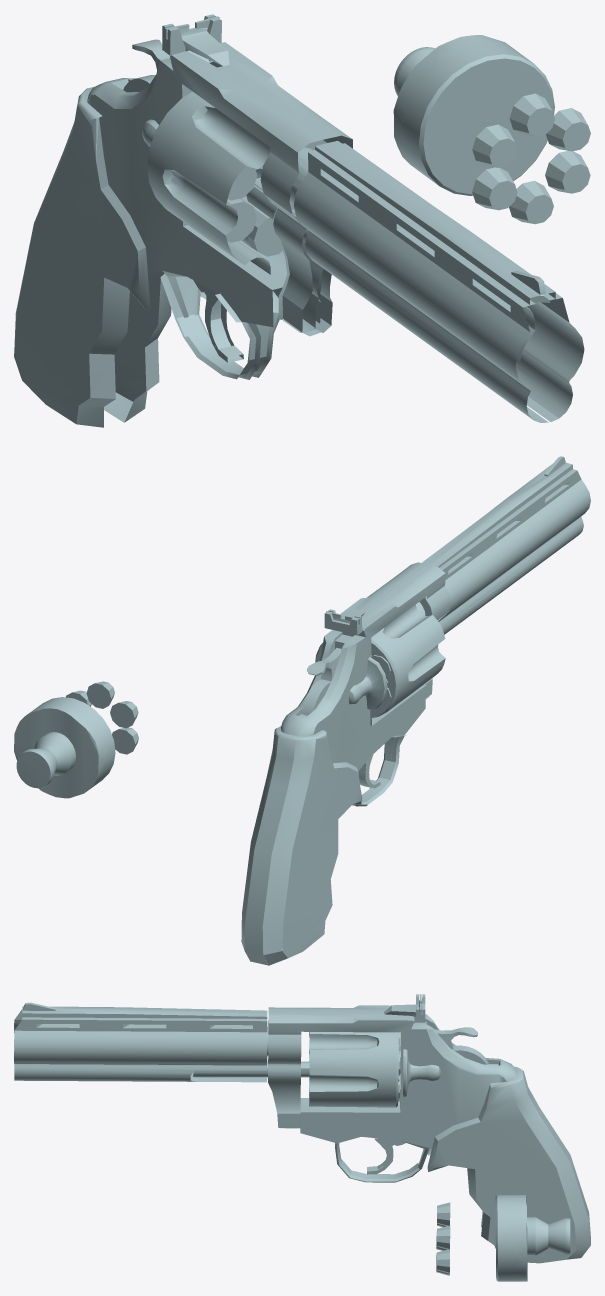
The model's file is v_dual357_fullref.fbx.
The picture shows the model from 3 angles, top to bottom: view 1: azimuth 30°, elevation 25°; view 2: azimuth 150°, elevation 25°; view 3: azimuth 270°, elevation 25°; orthographic projection. The views are drawn at different scales.
Parts seen in each view (by area): view 1: v_dual357_fullref; view 2: v_dual357_fullref; view 3: v_dual357_fullref.
Boxes of the visible parts, x1,y1,x2,y2 form: v_dual357_fullref: [14, 14, 590, 427]; v_dual357_fullref: [14, 456, 590, 965]; v_dual357_fullref: [14, 994, 590, 1281].
Size of the model in its own units: 803 by 703 by 1423.
